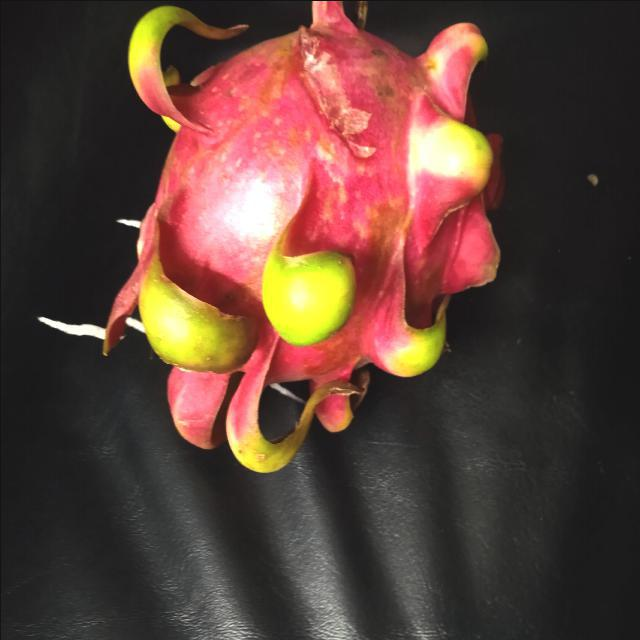do: (98, 1, 507, 475)
